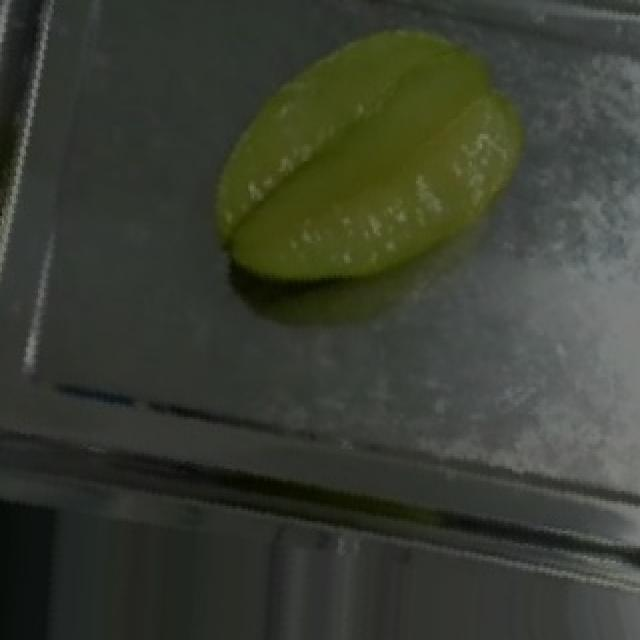fruit: (184, 2, 564, 332)
